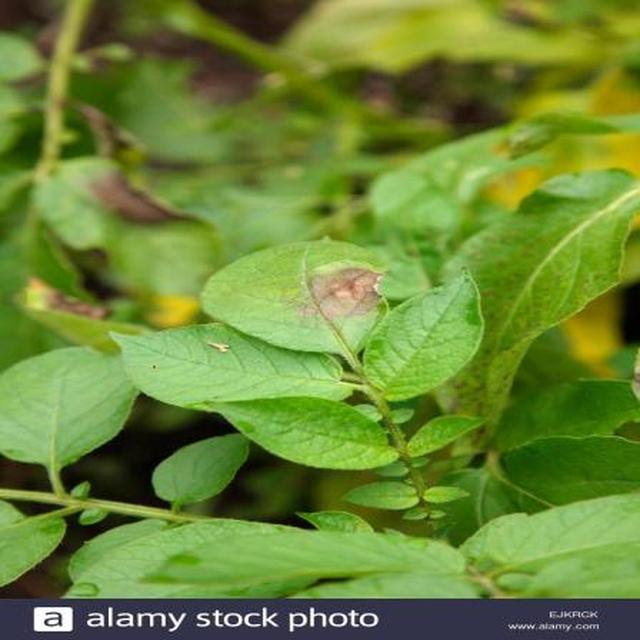Late Blight Leaf: (267, 336, 559, 511)
